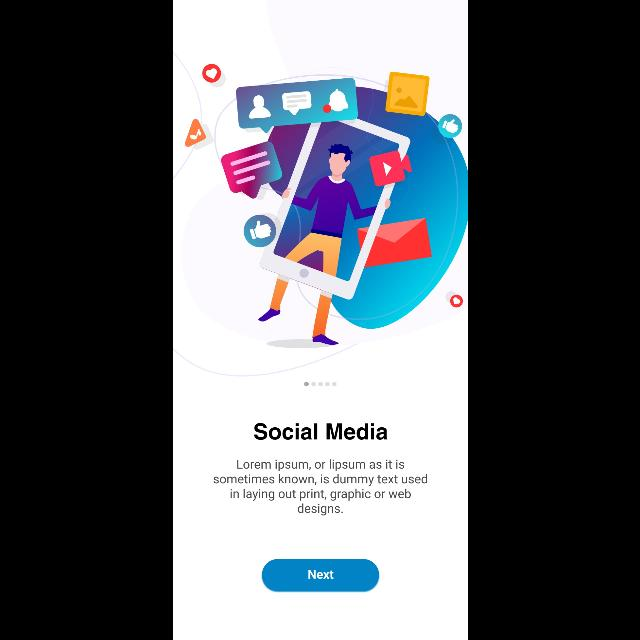image: (172, 51, 468, 376)
pageindicator: (304, 382, 336, 386)
text: (213, 459, 427, 515), (253, 424, 387, 441)
textbutton: (262, 558, 378, 592)
